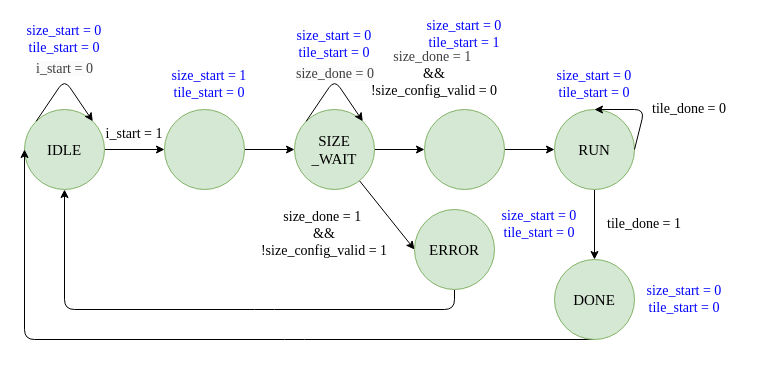
Some shapes in this 767 by 365 pixel diagram are drawn without their labels. Each missing label, with the centre of its shape:
SIZE _START: the point at 204,149
TILE _START: the point at 464,149
